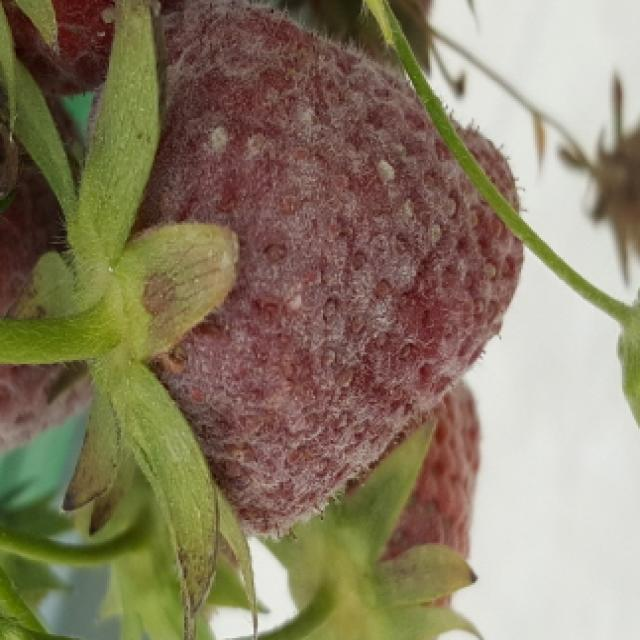Powdery Mildew Fruit: (79, 0, 526, 545), (0, 53, 98, 449)
